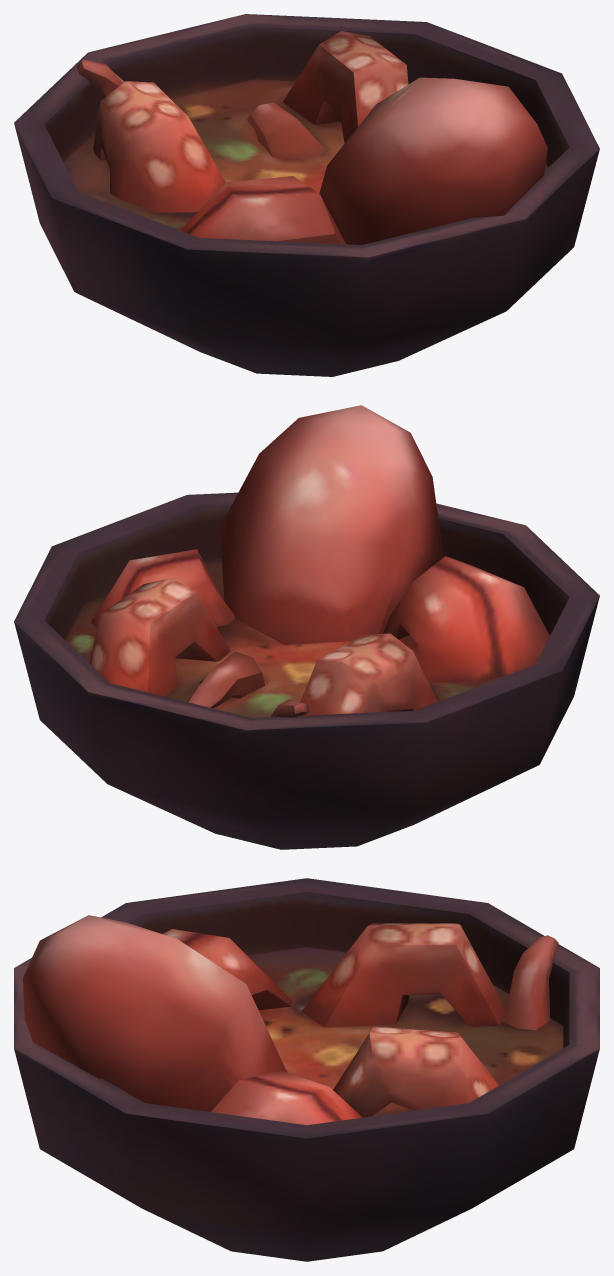
Rendered from Octopus_Soup.fbx.
3 renders of one model, top to bottom at view 1: azimuth 30°, elevation 25°; view 2: azimuth 150°, elevation 25°; view 3: azimuth 270°, elevation 25°, orthographic. The views are drawn at different scales.
Visible parts, largest first — view 1: Octopus_Soup; view 2: Octopus_Soup; view 3: Octopus_Soup.
Part boxes in pixels (left/top/right/bottom): Octopus_Soup: left=14, top=14, right=599, bottom=376; Octopus_Soup: left=14, top=405, right=599, bottom=849; Octopus_Soup: left=14, top=878, right=599, bottom=1261.
Size of the model in its own units: 1.02 by 0.5707 by 0.9737.
